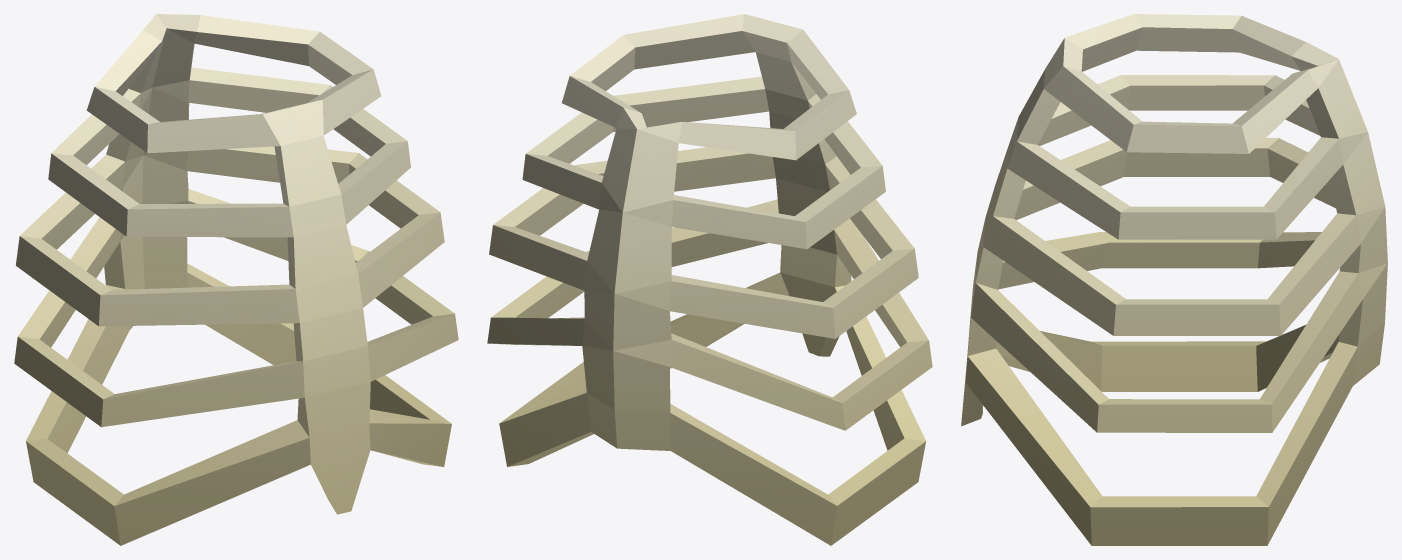
Rendered from Bones_HumanRibcage.fbx.
3 views of the same model, side by side, from view 1: azimuth 30°, elevation 25°; view 2: azimuth 150°, elevation 25°; view 3: azimuth 270°, elevation 25° (orthographic).
Parts seen in each view (by area): view 1: Bones_HumanRibcage; view 2: Bones_HumanRibcage; view 3: Bones_HumanRibcage.
Part boxes in pixels (left/top/right/bottom): Bones_HumanRibcage: left=14, top=14, right=458, bottom=545; Bones_HumanRibcage: left=487, top=14, right=932, bottom=545; Bones_HumanRibcage: left=961, top=14, right=1387, bottom=545.
Bounding box in the file's own units: 34.2 × 35.18 × 37.58.
1 material, 1 textured.
